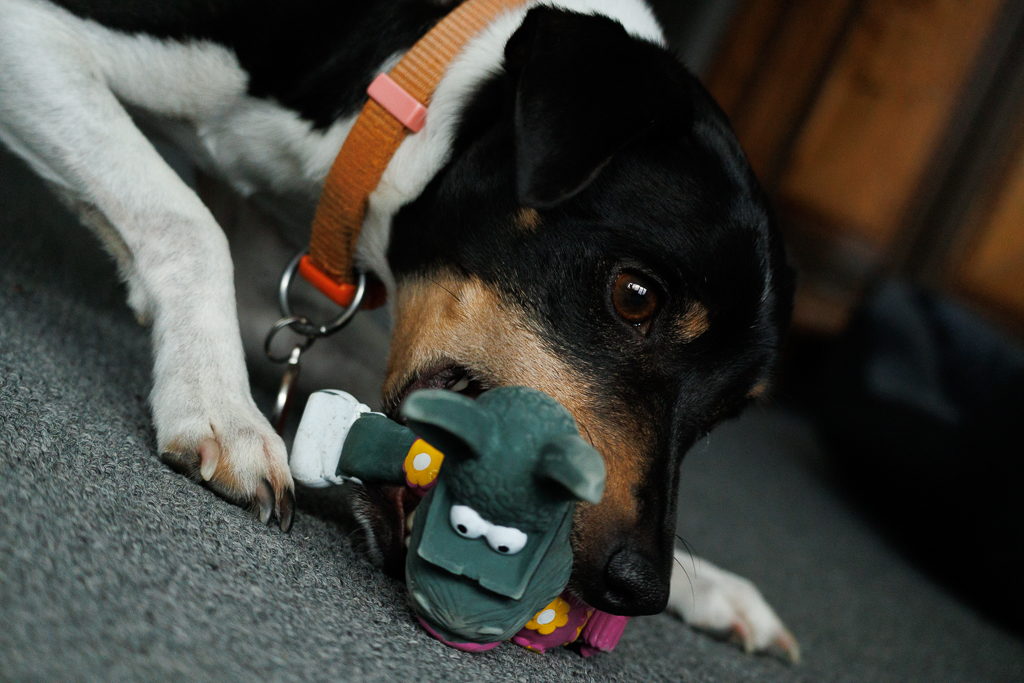Dog: (0, 0, 816, 671)
Humanoid: (284, 333, 632, 660)
